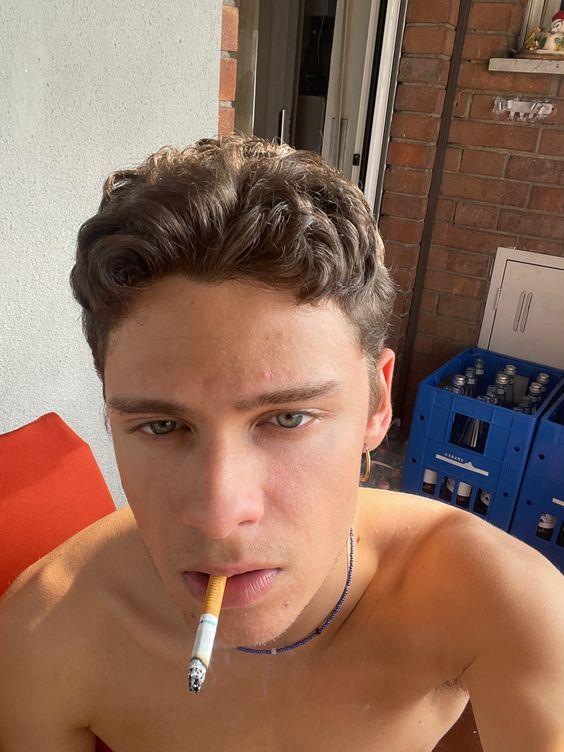cigarette: (189, 574, 227, 695)
